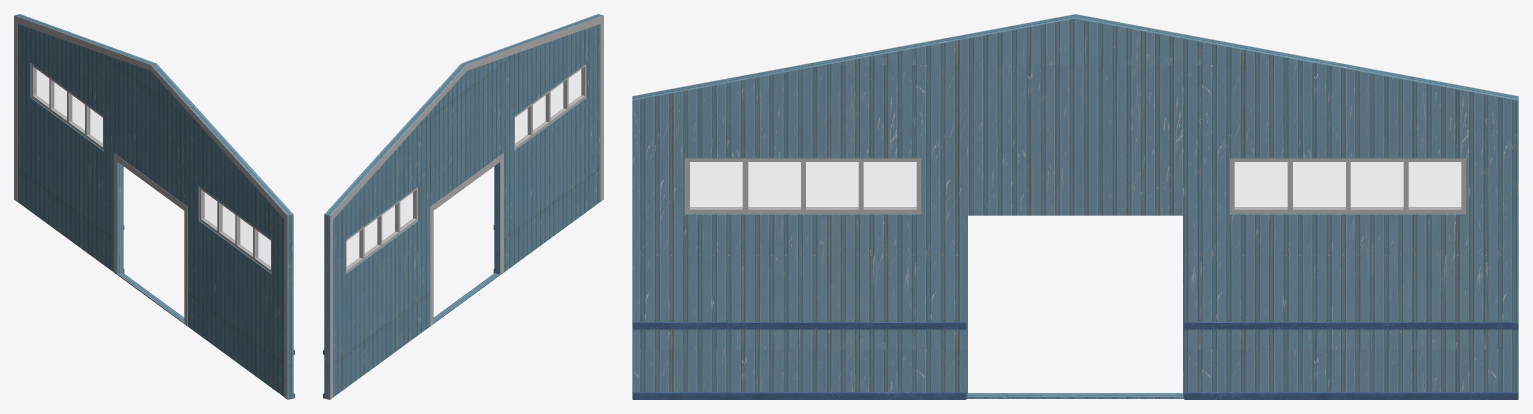
The model's file is WarehauseWallFrontDoor.FBX.
The picture shows the model from 3 angles, left to right: view 1: azimuth 30°, elevation 25°; view 2: azimuth 150°, elevation 25°; view 3: azimuth 270°, elevation 25°; orthographic projection. The views are drawn at different scales.
Parts seen in each view (by area): view 1: WarehauseWallFrontDoor, WarehauseMetal01, WarehauseWindows; view 2: WarehauseWallFrontDoor, WarehauseMetal01, WarehauseWindows; view 3: WarehauseWallFrontDoor, WarehauseMetal02, WarehauseWindows.
Part boxes in pixels (left/top/right/bottom): WarehauseWallFrontDoor: left=15, top=14, right=293, bottom=399; WarehauseMetal01: left=14, top=15, right=287, bottom=399; WarehauseWindows: left=31, top=63, right=271, bottom=272; WarehauseWallFrontDoor: left=324, top=14, right=602, bottom=399; WarehauseMetal01: left=330, top=15, right=603, bottom=399; WarehauseWindows: left=346, top=63, right=586, bottom=273; WarehauseWallFrontDoor: left=632, top=14, right=1518, bottom=398; WarehauseMetal02: left=632, top=321, right=1518, bottom=399; WarehauseWindows: left=684, top=158, right=1466, bottom=213.
Bounding box in the file's own units: 10.11 × 313 × 660.
